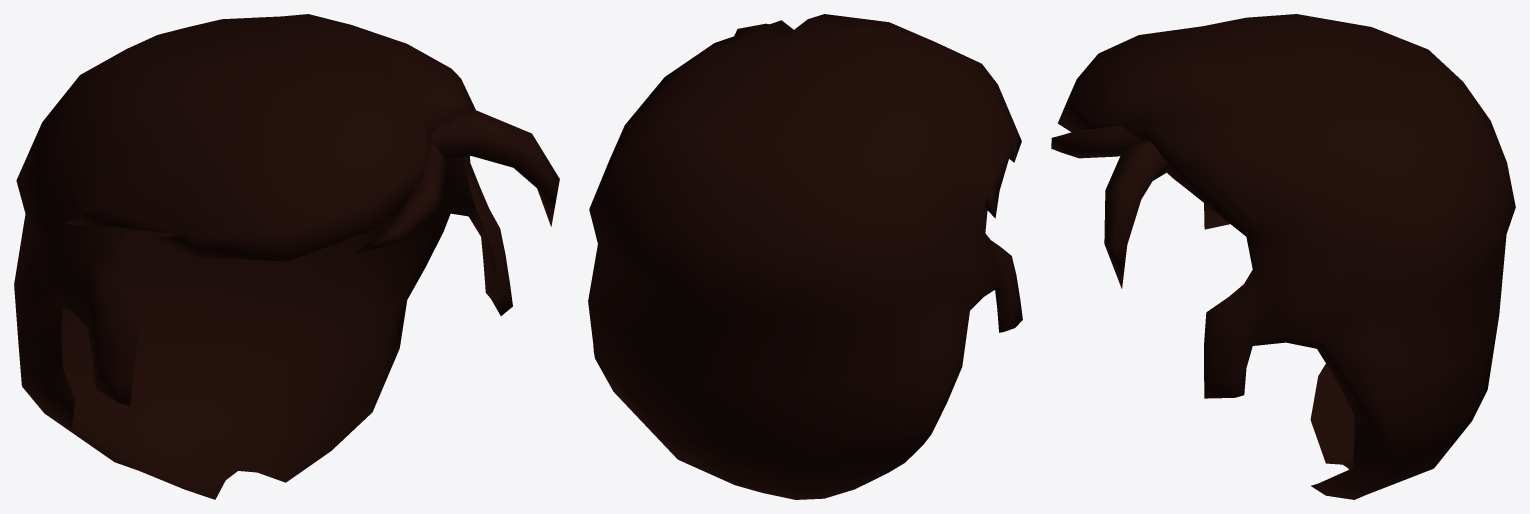
The model's file is Hair.fbx.
3 views of the same model, side by side, from view 1: azimuth 30°, elevation 25°; view 2: azimuth 150°, elevation 25°; view 3: azimuth 270°, elevation 25° (orthographic). The views are drawn at different scales.
Visible parts, largest first — view 1: Hair; view 2: Hair; view 3: Hair.
Part boxes in pixels (x1,y1,x2,y2): Hair: [14, 14, 559, 499]; Hair: [588, 14, 1022, 499]; Hair: [1051, 14, 1515, 499].
Bounding box in the file's own units: 8.22 × 8.6 × 8.39.
